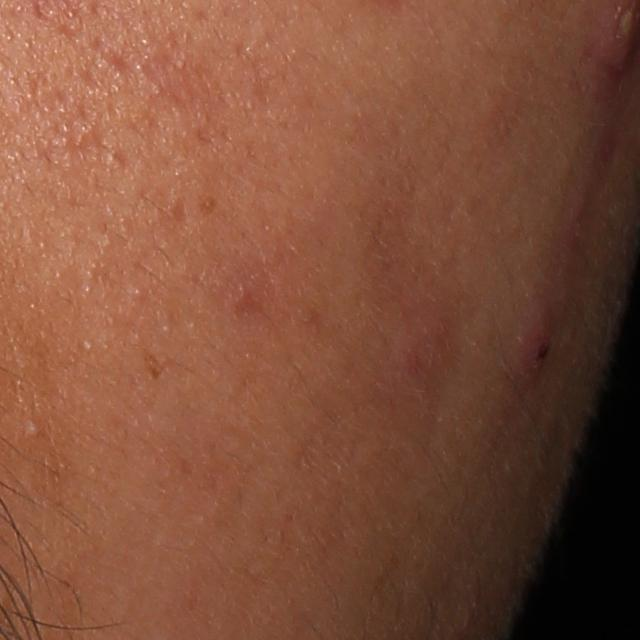comedo: (22, 416, 50, 440), (133, 287, 145, 303)
papule: (390, 310, 454, 387), (510, 321, 555, 390)
